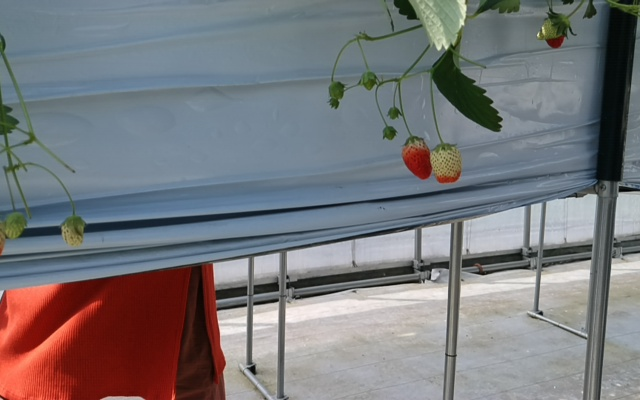GreenStrawberry: (429, 142, 464, 185), (537, 12, 571, 40), (60, 217, 86, 249), (2, 212, 28, 242)
MatureStrawberry: (400, 136, 433, 182)
